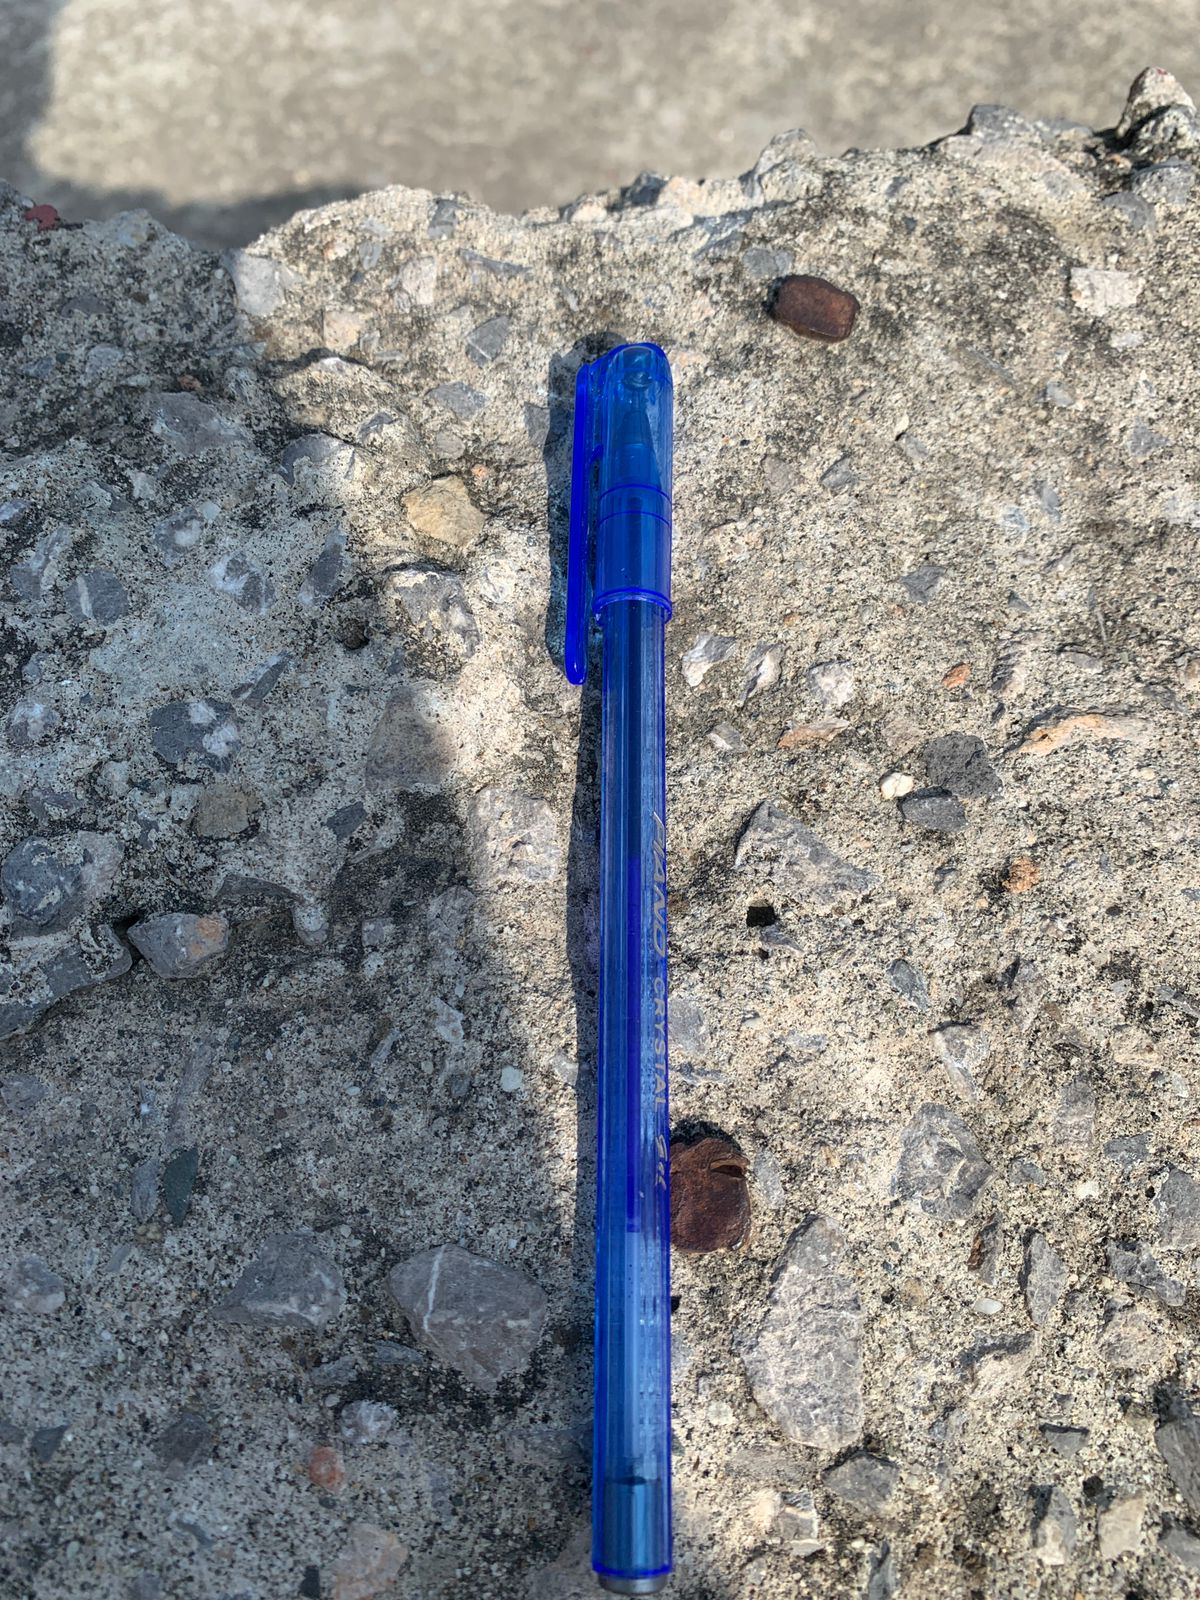pen: (321, 204, 981, 1600)
